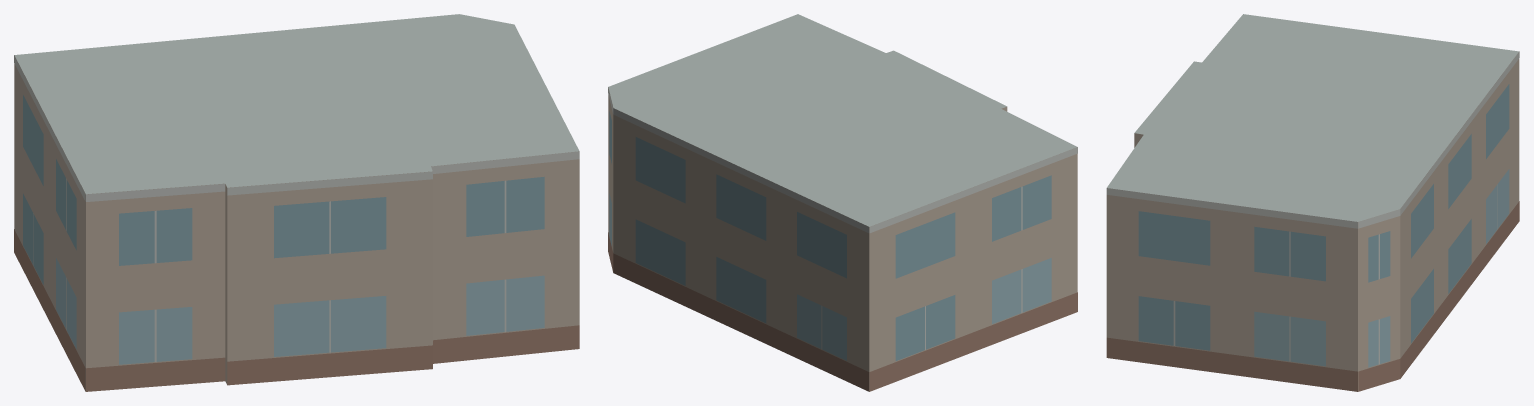
File: survey-upis-32842135.glb
3 views of the same model, side by side, from view 1: azimuth 30°, elevation 25°; view 2: azimuth 150°, elevation 25°; view 3: azimuth 270°, elevation 25° (orthographic). The views are drawn at different scales.
Parts seen in each view (by area): view 1: survey-upis-32842135.tmp; view 2: survey-upis-32842135.tmp; view 3: survey-upis-32842135.tmp.
Boxes of the visible parts, <box> form: survey-upis-32842135.tmp: <box>14,14,579,391</box>; survey-upis-32842135.tmp: <box>608,14,1077,391</box>; survey-upis-32842135.tmp: <box>1106,14,1519,391</box>.
Size of the model in its own units: 16.02 by 6.1 by 13.44.
